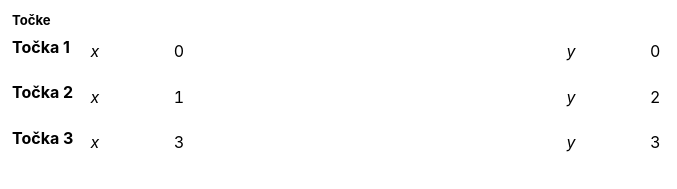
Test: a refused edit shows the caller message at that field and the field returns to the model value
Replace the text in the 3rd number field named "Točka 2, x" with "0" at (147, 97), box [103,77,191,117]
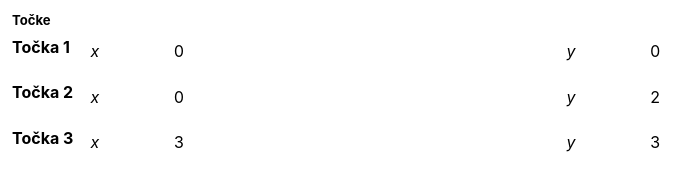
Press Enter in the 3rd number field named "Točka 2, x", box [103,77,191,117]
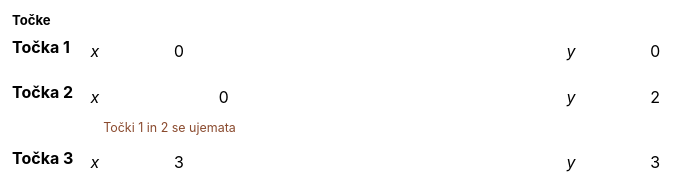
Expected: the text "Točki 1 in 2 se ujemata" is shown, [103,120,236,137]
Leave the 3rd number field named "Točka 2, x", box [148,77,236,117]
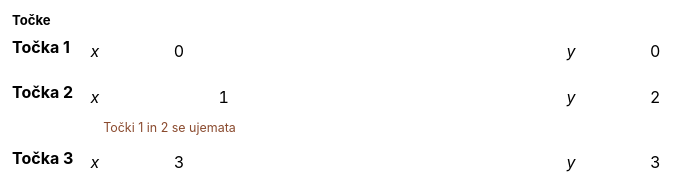
Expected: the 3rd number field named "Točka 2, x" holds "1", [148,77,236,117]
